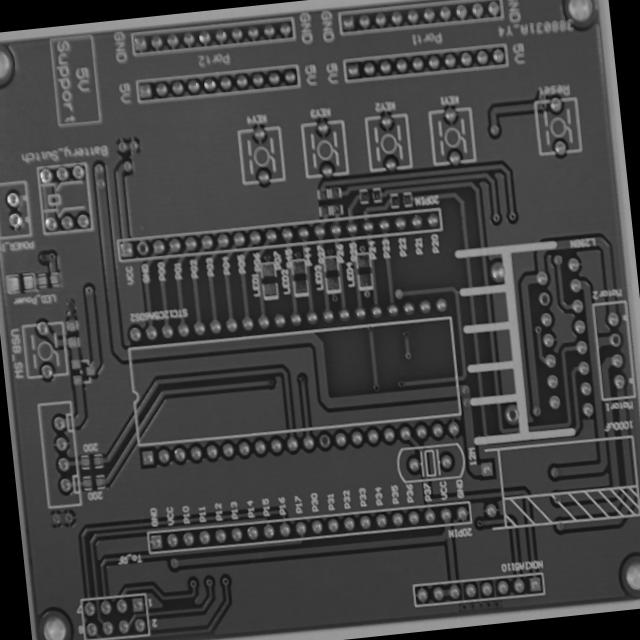missing_hole: (314, 428, 334, 452), (502, 403, 520, 426), (534, 288, 552, 308), (134, 238, 150, 258), (608, 331, 623, 348)
